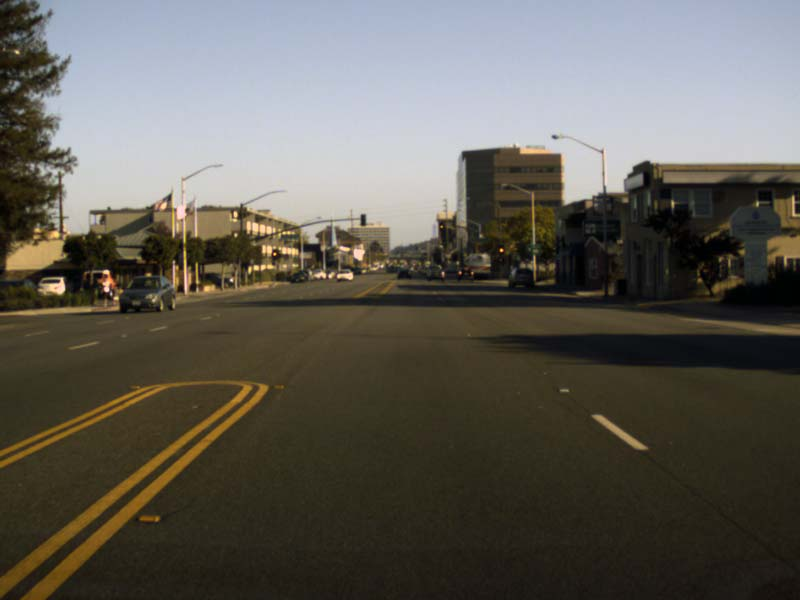Red: (497, 244, 504, 254)
Yellow: (272, 249, 278, 259), (439, 221, 444, 231)
